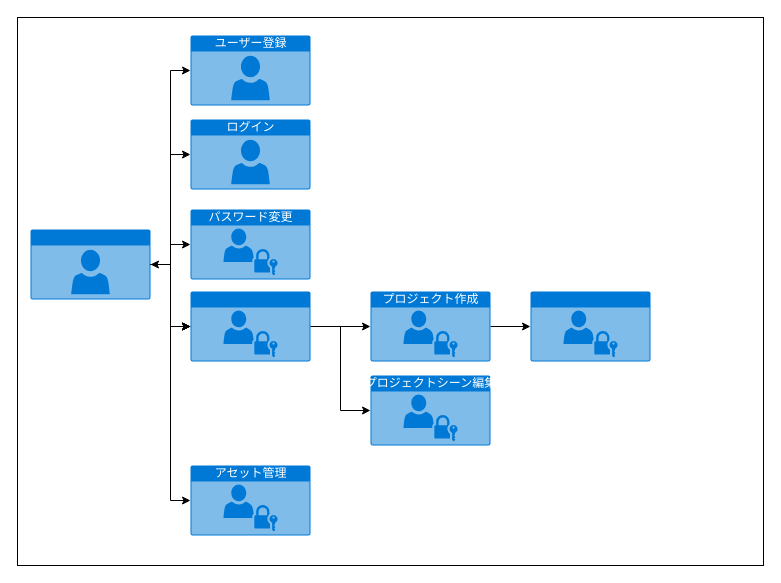
Some shapes in this 781 by 583 pixel diagram are drawn without their labels. Each missing label, with the centre of its shape:
TOP（利用者）: point 90,264
プロジェクトシーン作成: point 590,326
プロジェクト一覧: point 250,326
